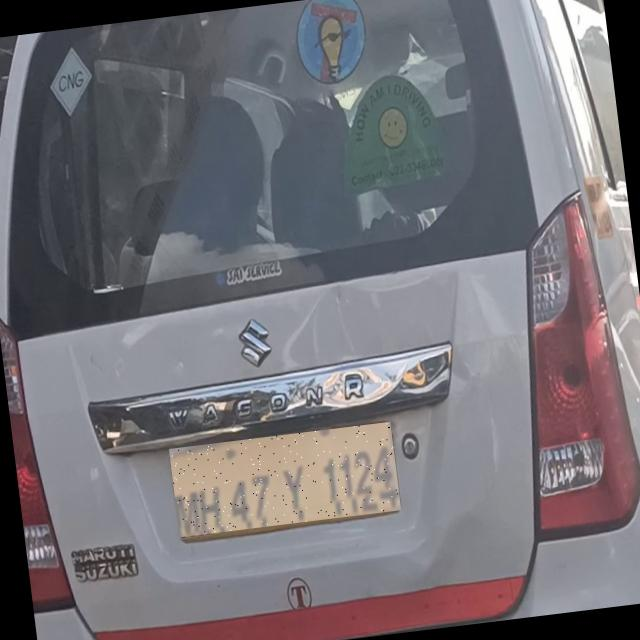Plate: (170, 422, 402, 538)
